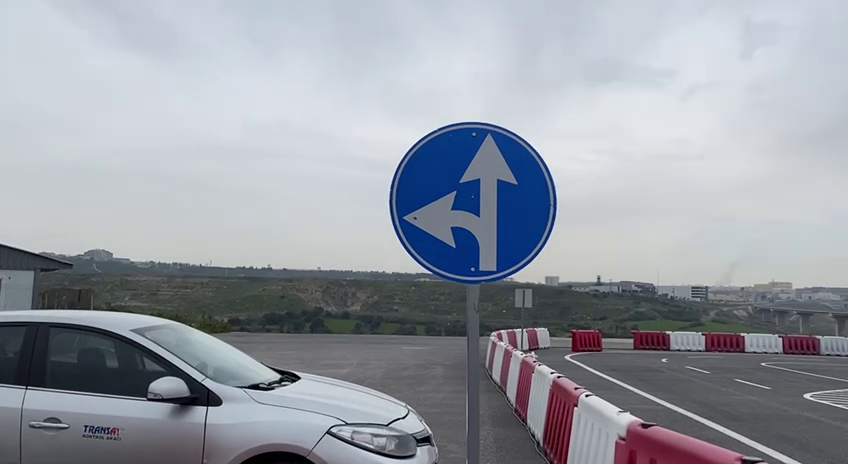forwardAndLeft: (384, 119, 563, 292)
